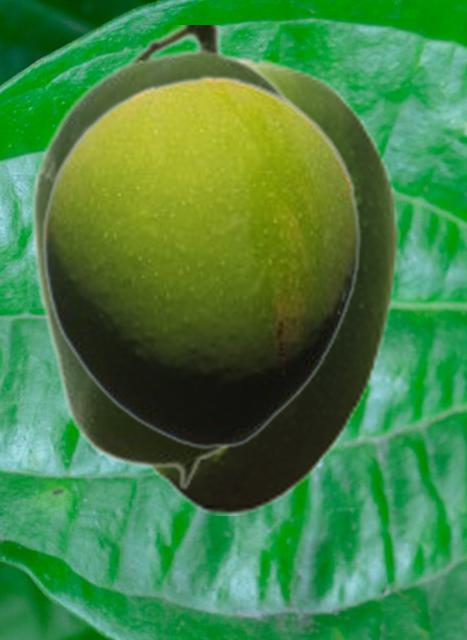green_mango: (28, 25, 300, 490), (41, 75, 361, 449), (141, 56, 399, 514)
